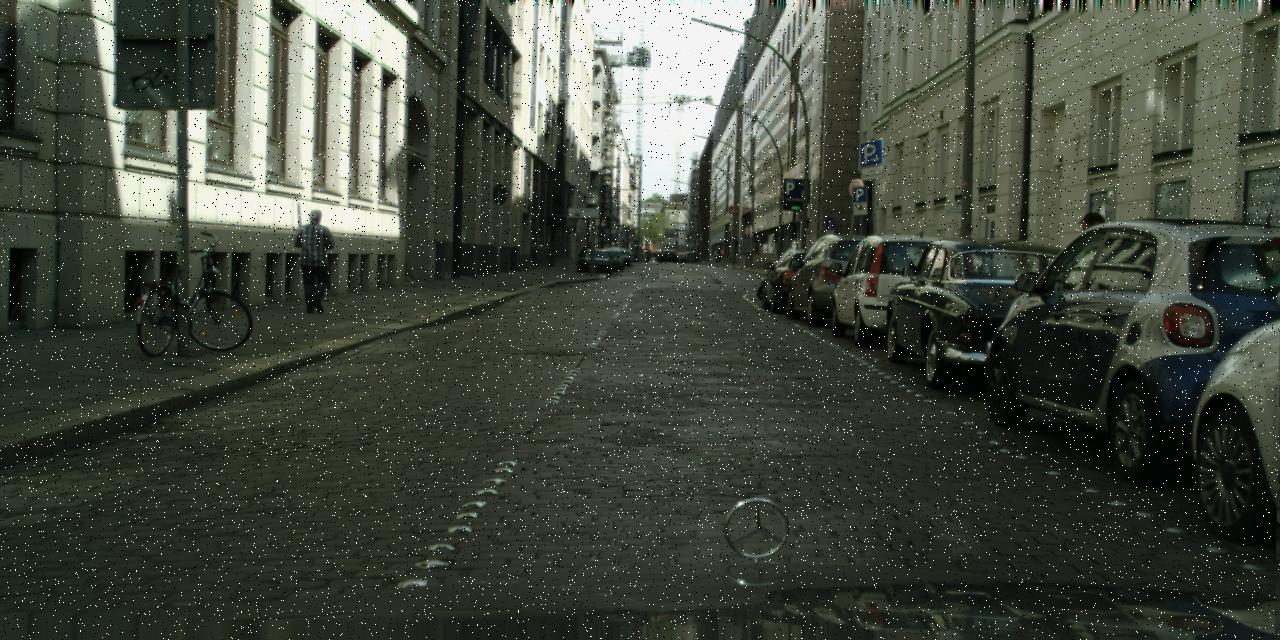ped: (1070, 213, 1124, 345), (293, 207, 336, 312), (581, 241, 590, 265)
